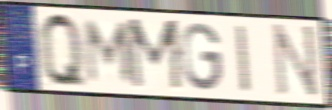G: (180, 21, 224, 93)
I: (233, 22, 254, 96)
M: (126, 16, 186, 93), (85, 18, 136, 85)
N: (273, 22, 320, 102)
Q: (37, 9, 90, 91)
